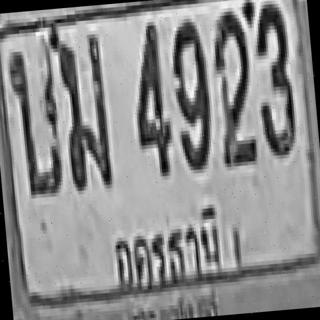A26: (5, 45, 64, 196)
A33: (54, 28, 112, 190)
N02: (208, 5, 256, 166)
N03: (250, 0, 296, 156)
N04: (126, 20, 172, 176)
N09: (167, 17, 213, 171)
P73: (105, 200, 230, 299)
